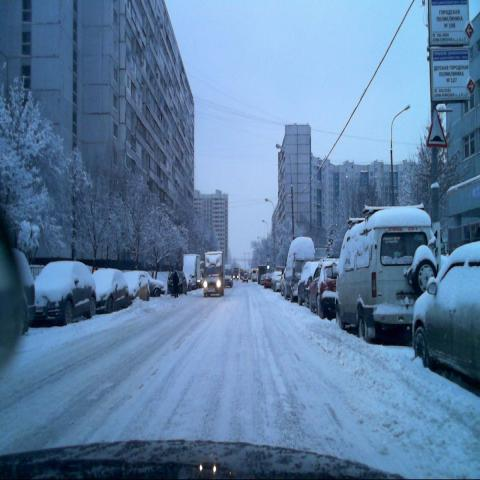1_17: (425, 106, 448, 148)
